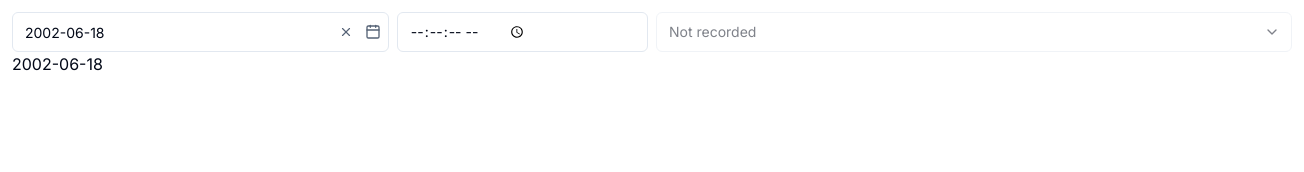
DiveStartTimeField on a dive whose time of day was never recorded › goes back to the bare date when the typed time is emptied
In the time field named "Time": (522, 32) [397,12,648,52], type "10:30"
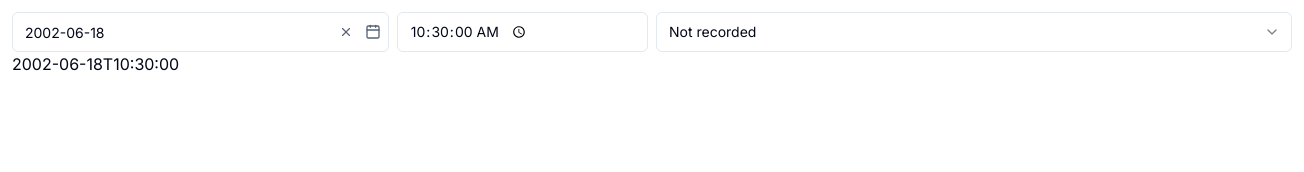
Clear the time field named "Time": (522, 32) [397,12,648,52]
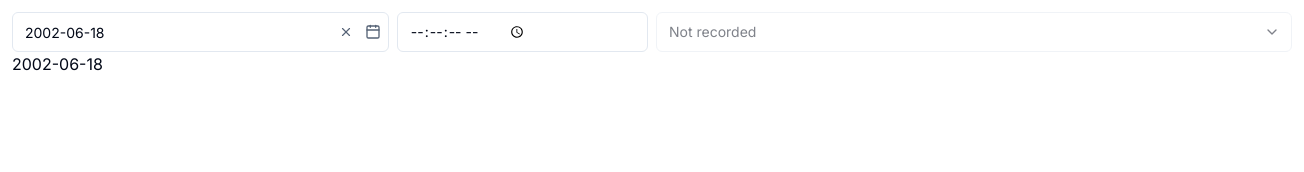
Now the dropdown named "UTC offset" is disabled, box [656,12,1292,52]
